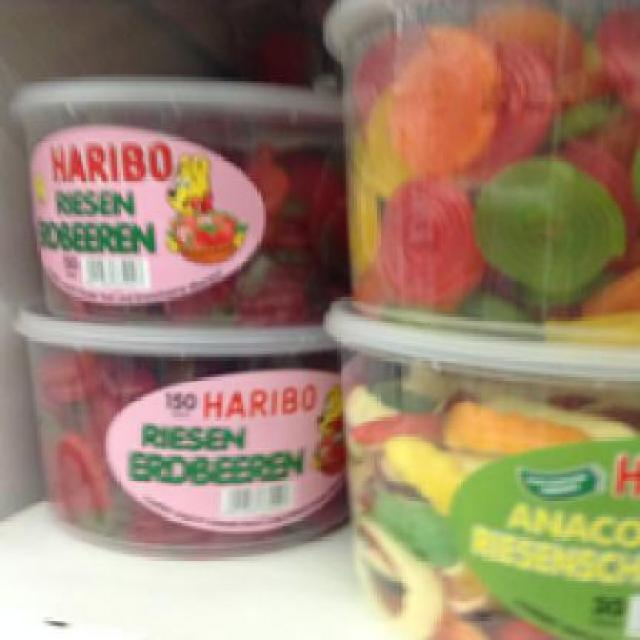Candy: (307, 0, 638, 335), (317, 297, 634, 637), (0, 304, 355, 555), (8, 71, 344, 318)
